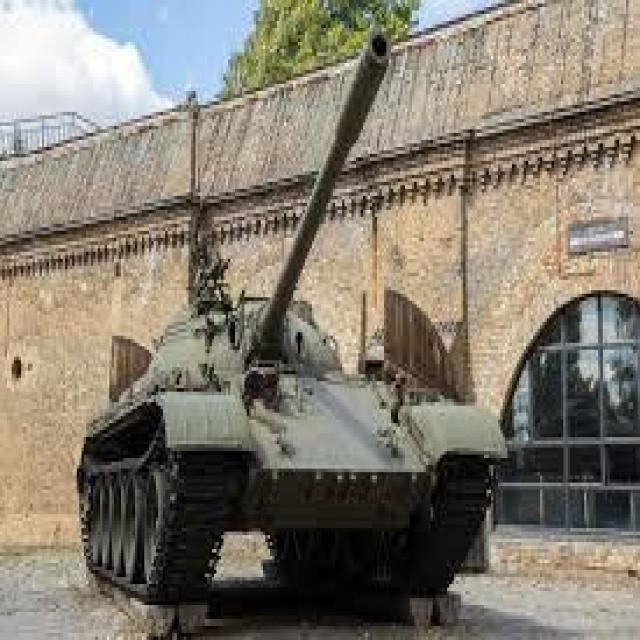Tanks: (72, 238, 507, 608)
